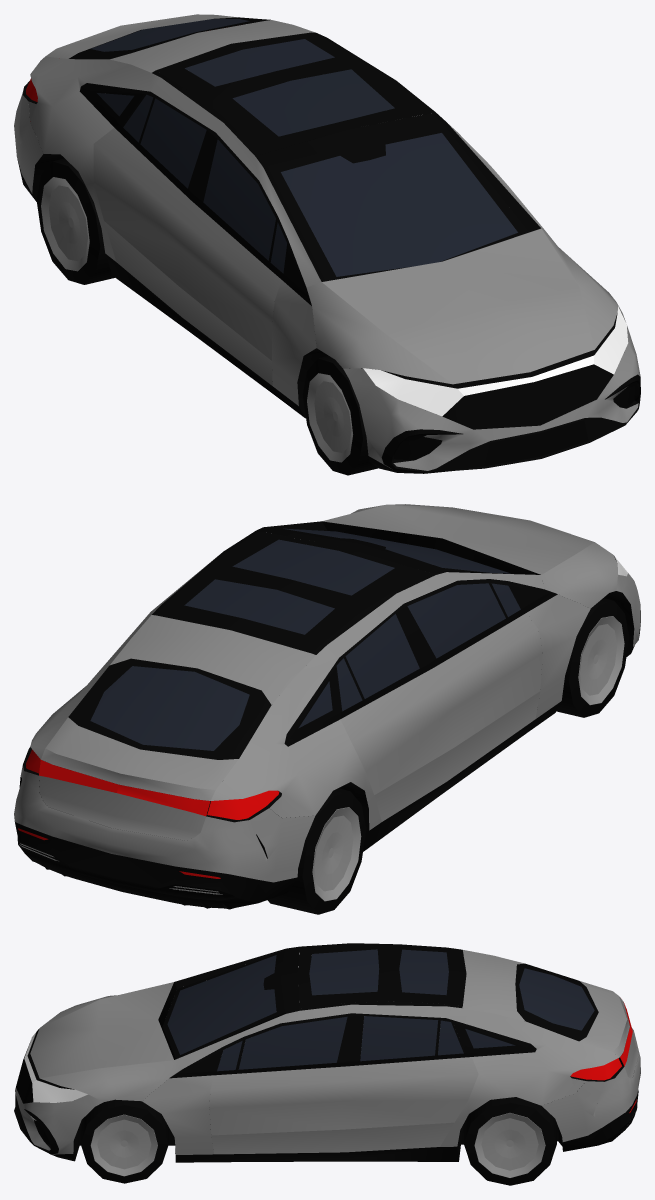
File: car_mercedes.glb
3 views of the same model, one above another, from view 1: azimuth 30°, elevation 25°; view 2: azimuth 150°, elevation 25°; view 3: azimuth 270°, elevation 25° (orthographic). The views are drawn at different scales.
Visible parts, largest first — view 1: paint, black_2, glass, lamp_f, rim_BL, tire_BL, rim_FL, tire_FL; view 2: paint, black_2, glass, lamp_r, tire_BL, rim_BL, rim_FL, tire_FL; view 3: paint, glass, black_2, rim_BR, tire_BR, rim_FR, tire_FR, lamp_f, lamp_r.
Part boxes in pixels (x1,y1,x2,y2): paint: (14,14,640,470); black_2: (17,17,640,473); glass: (91,19,517,276); lamp_f: (363,306,628,416); rim_BL: (41,177,89,271); tire_BL: (36,158,115,284); rim_FL: (307,373,353,462); tire_FL: (302,355,377,475); paint: (14,504,640,894); black_2: (15,521,640,909); glass: (90,528,520,750); lamp_r: (18,749,279,878); tire_BL: (267,788,366,914); rim_BL: (312,807,361,901); rim_FL: (578,616,624,705); tire_FL: (556,598,629,717); paint: (15,949,640,1154); glass: (167,949,594,1071); black_2: (14,943,638,1162); rim_BR: (474,1113,545,1177); tire_BR: (463,1097,557,1185); rim_FR: (90,1114,157,1176); tire_FR: (80,1100,168,1183); lamp_f: (24,1032,87,1102); lamp_r: (571,1002,636,1112).
Size of the model in its own units: 1.92 by 1.56 by 5.21.
